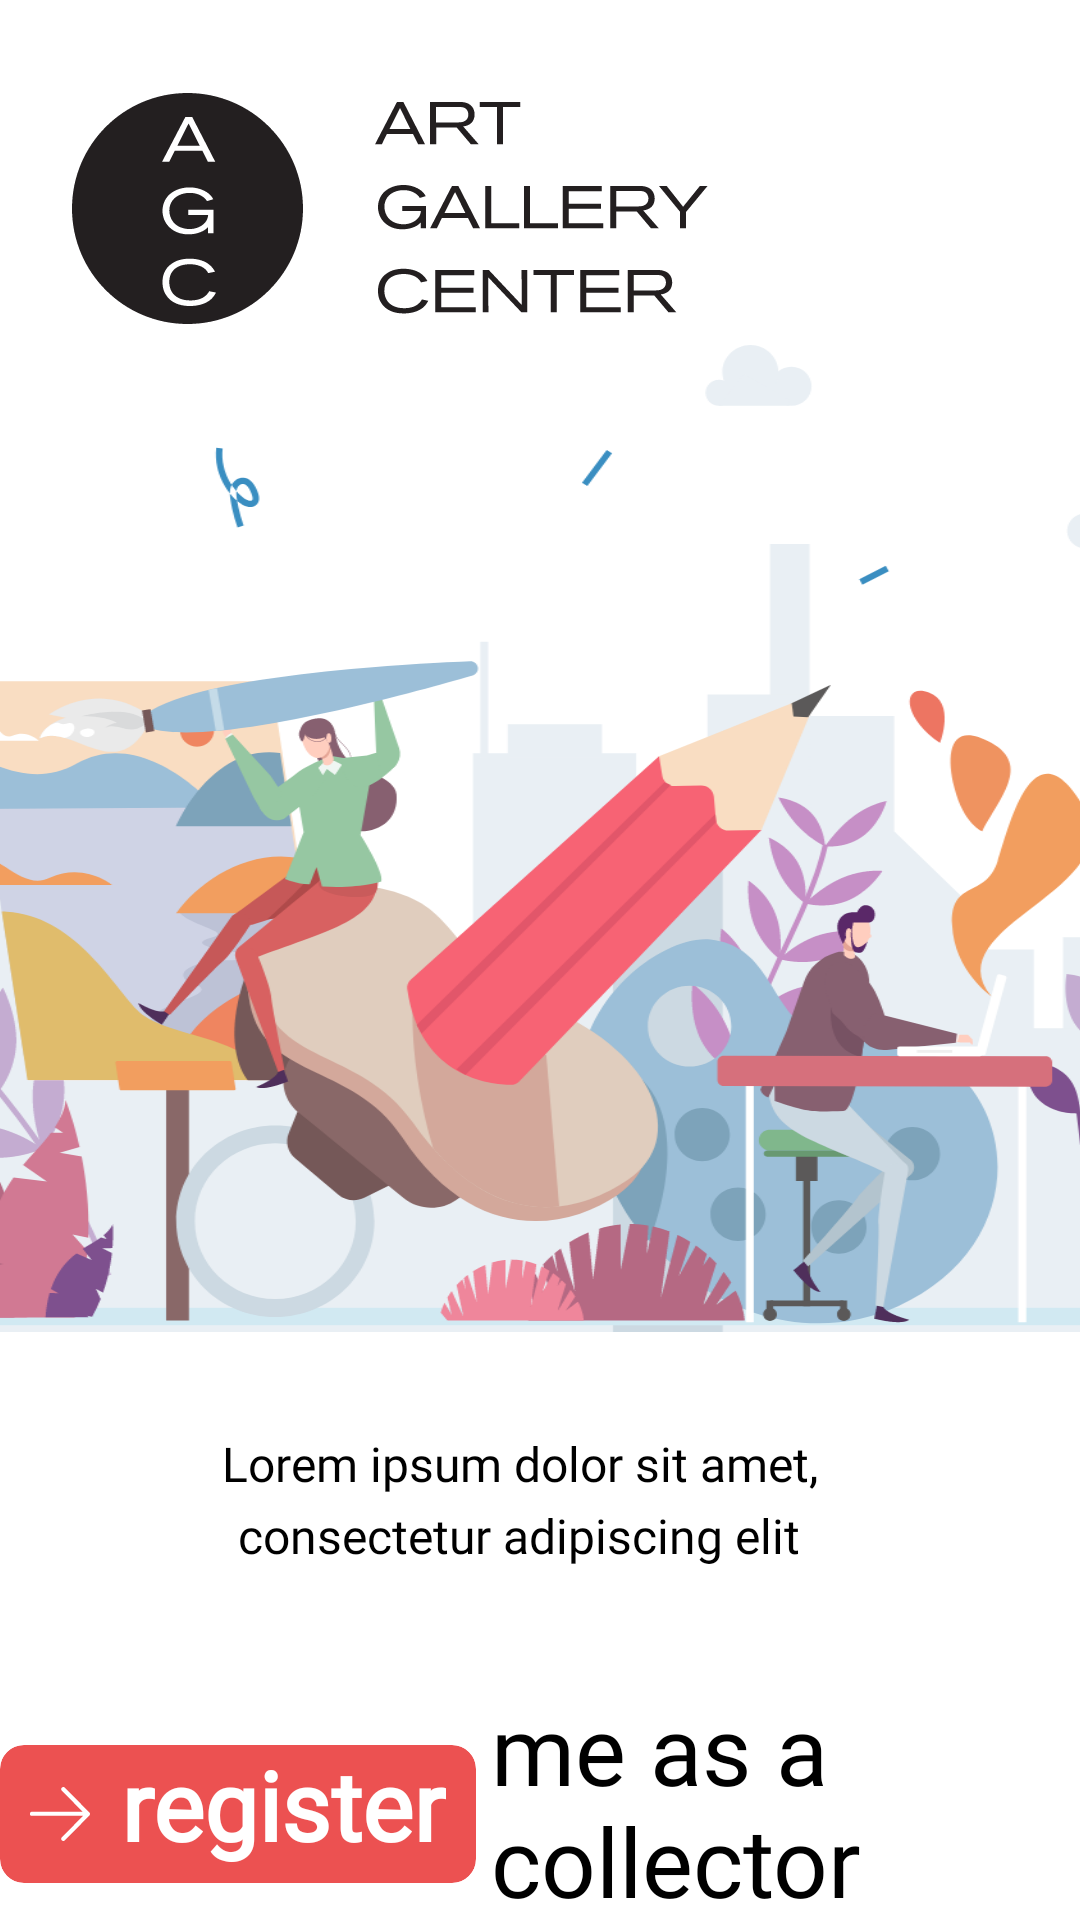

Where to tap for icons on this 1080w x 1920h app screen, as point (x, y):
arrow Right: point (60, 1814)
